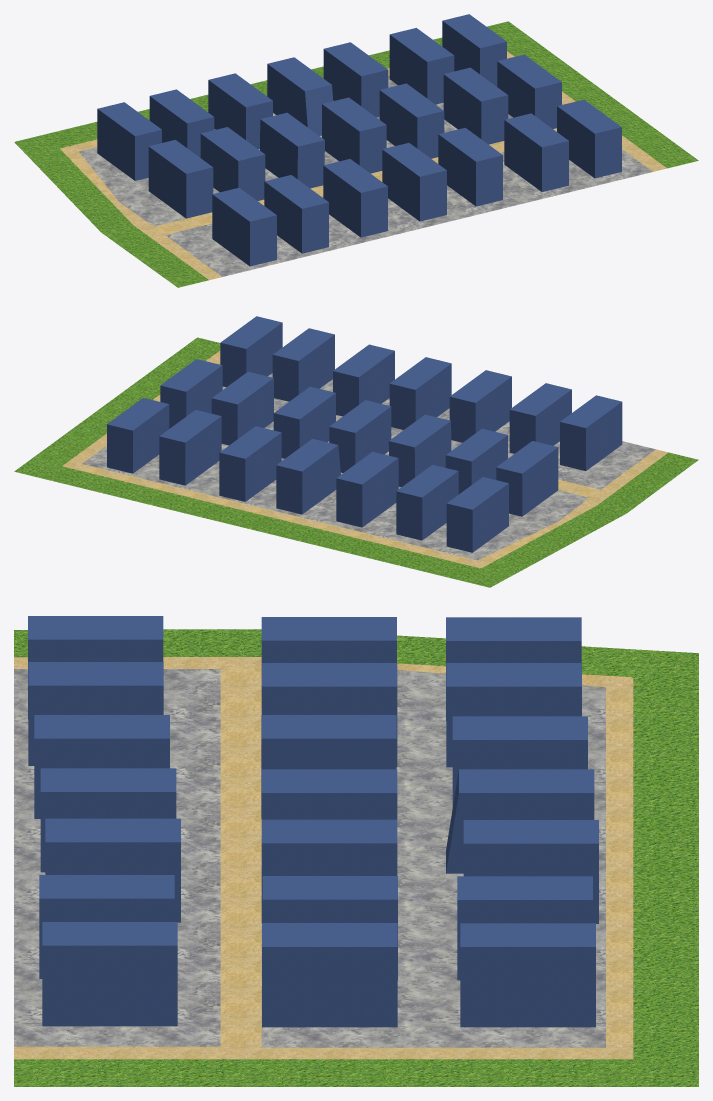
Rendered from factor.gltf.
3 views of the same model, one above another, from view 1: azimuth 30°, elevation 25°; view 2: azimuth 150°, elevation 25°; view 3: azimuth 270°, elevation 25° (orthographic). The views are drawn at different scales.
Parts seen in each view (by area): view 1: root; view 2: root; view 3: root.
Boxes of the visible parts, x1,y1,x2,y2 form: root: (14, 14, 698, 287); root: (14, 316, 698, 587); root: (14, 616, 698, 1086).
Bounding box in the file's own units: 9.28 × 0.76 × 5.87.
5 materials, 4 textured.
